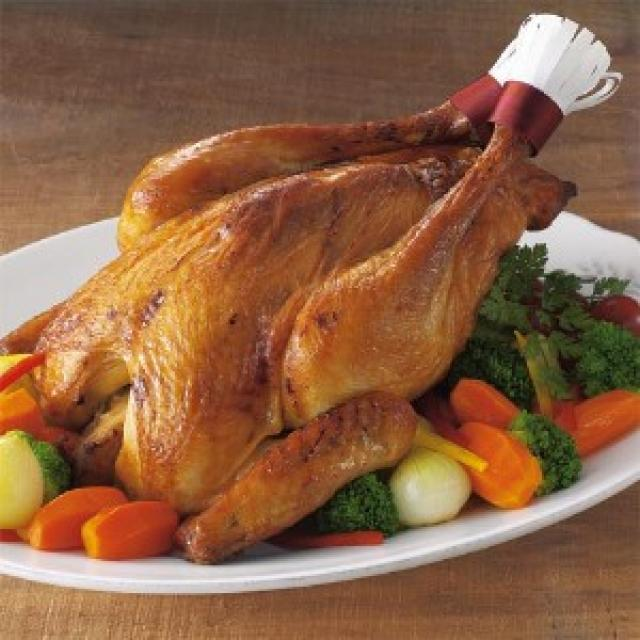Chicken roast: (43, 32, 568, 525)
